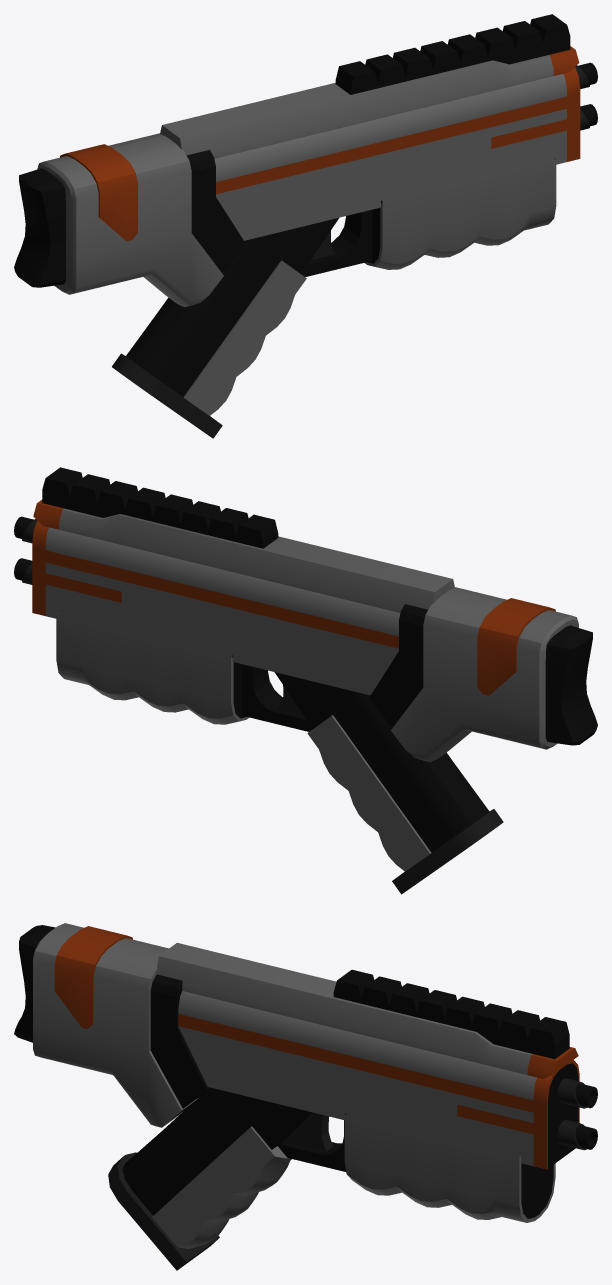
Rendered from Pistol_3.obj.
The picture shows the model from 3 angles, top to bottom: view 1: azimuth 30°, elevation 25°; view 2: azimuth 150°, elevation 25°; view 3: azimuth 330°, elevation 25°; orthographic projection.
Parts seen in each view (by area): view 1: Pistol_3_Cube.133; view 2: Pistol_3_Cube.133; view 3: Pistol_3_Cube.133.
Part boxes in pixels (x1,y1,x2,y2): Pistol_3_Cube.133: [14, 14, 597, 438]; Pistol_3_Cube.133: [14, 467, 597, 894]; Pistol_3_Cube.133: [14, 923, 597, 1270].
Size of the model in its own units: 0.9094 by 0.4864 by 0.114.
